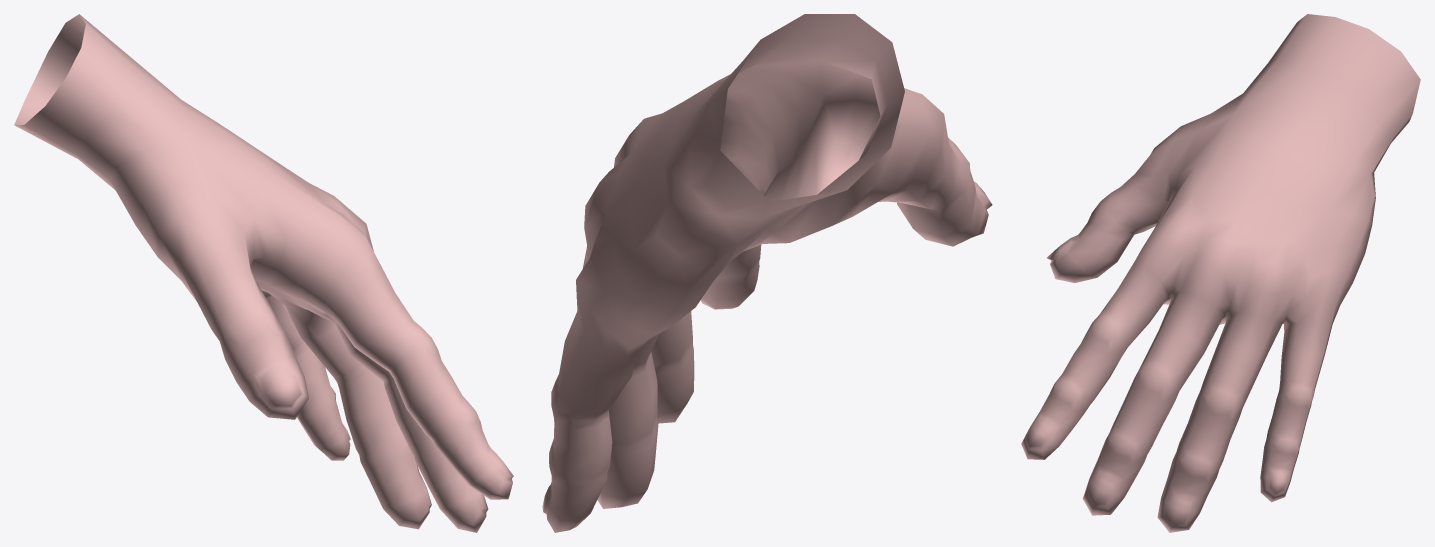
Rendered from Anime_Male_A_Hand01.fbx.
The picture shows the model from 3 angles, left to right: view 1: azimuth 30°, elevation 25°; view 2: azimuth 150°, elevation 25°; view 3: azimuth 270°, elevation 25°; orthographic projection. The views are drawn at different scales.
Visible parts, largest first — view 1: Anime_Male_A_Hand01; view 2: Anime_Male_A_Hand01; view 3: Anime_Male_A_Hand01.
Boxes of the visible parts, left/top/right/bottom form: Anime_Male_A_Hand01: left=14, top=14, right=513, bottom=532; Anime_Male_A_Hand01: left=542, top=14, right=992, bottom=532; Anime_Male_A_Hand01: left=1021, top=14, right=1420, bottom=532.
Size of the model in its own units: 0.6988 by 1.01 by 0.877.
